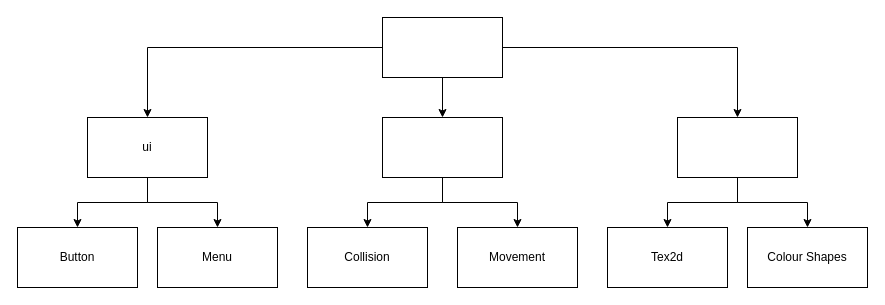
The diagram is 885 pixels wide and 305 high, and some of its shapes have lost their labels. Each missing label, with the centre of its shape:
"Components" belongs at (x=442, y=47).
"Physics" belongs at (x=442, y=147).
"texture" belongs at (x=737, y=147).
